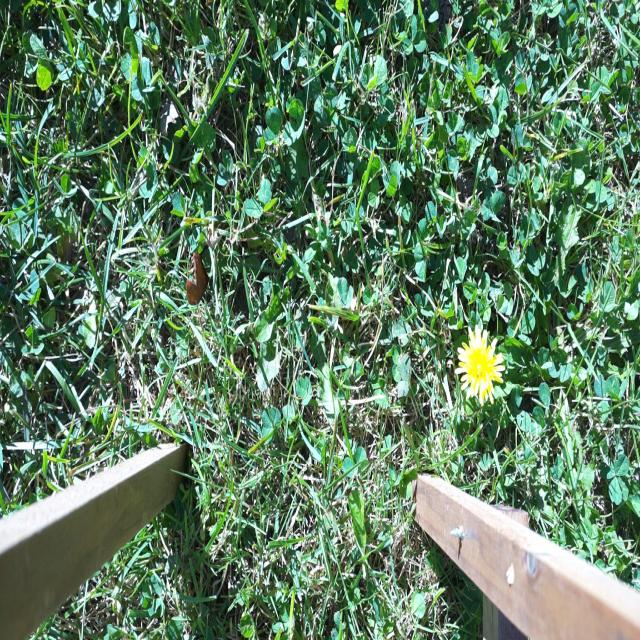flower: (458, 329, 502, 402)
